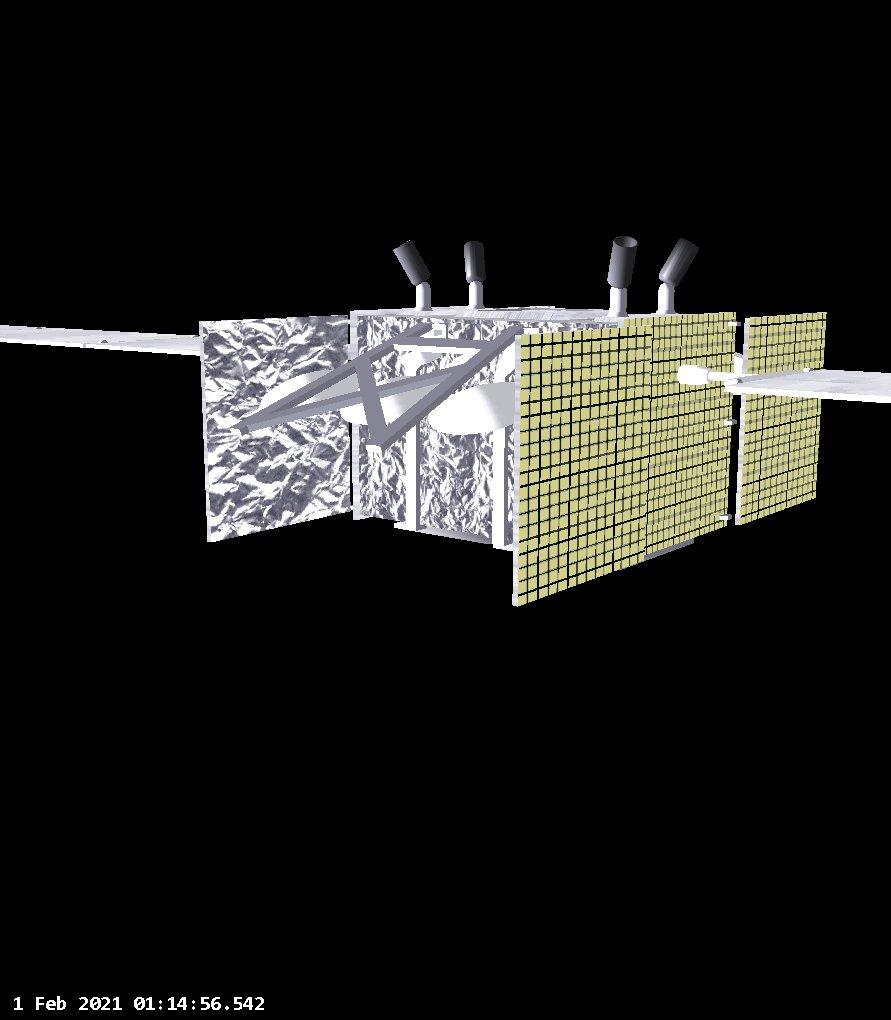antenna: (339, 371, 445, 426), (424, 379, 521, 436), (256, 364, 362, 415)
body: (355, 303, 645, 555)
solar: (509, 319, 648, 612), (197, 311, 354, 545), (625, 307, 741, 561), (732, 308, 829, 533), (0, 315, 204, 364), (727, 366, 891, 409)
thruster: (391, 236, 433, 289), (656, 235, 700, 285), (607, 232, 637, 292), (460, 238, 489, 288)
